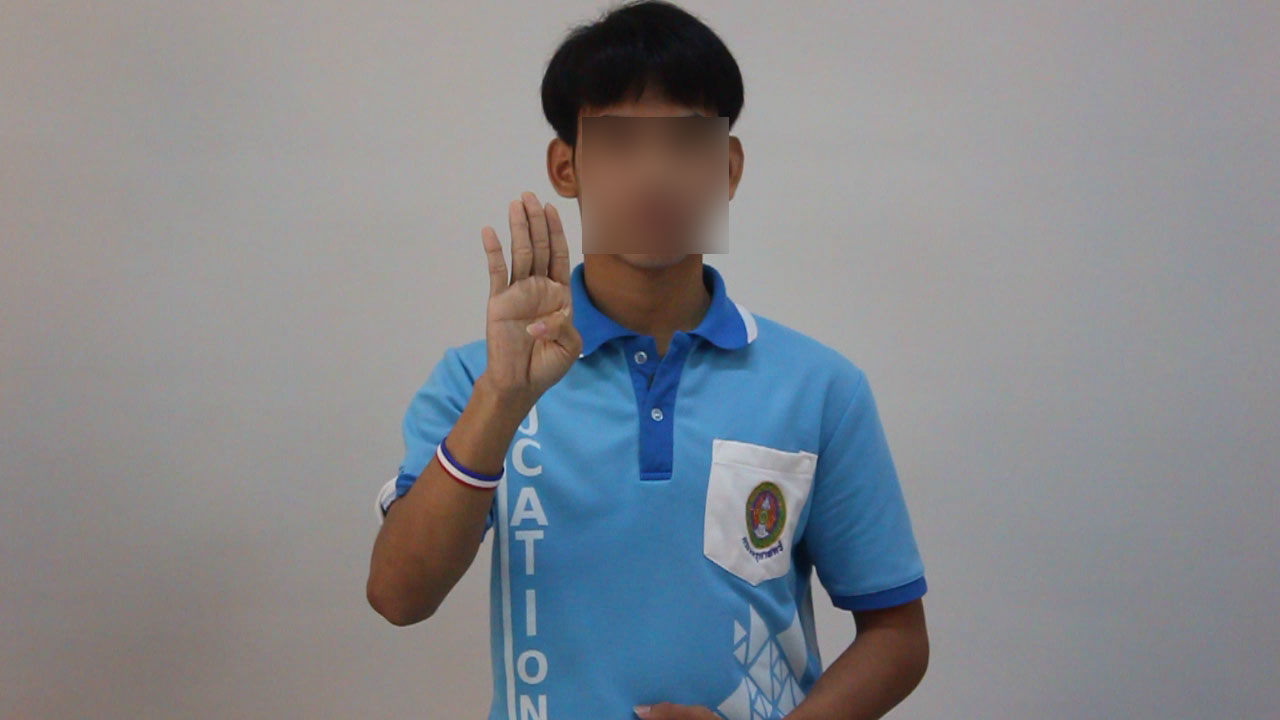bor: (461, 180, 596, 418)
